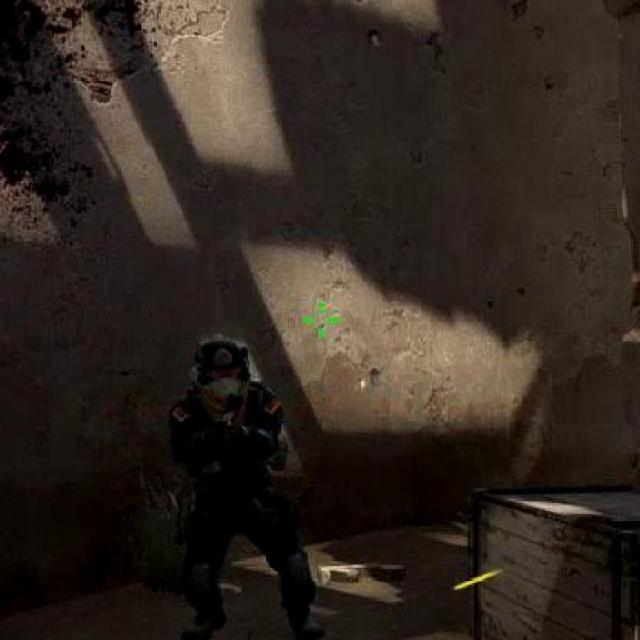CT: (163, 340, 311, 622)
CT_HEAD: (200, 340, 251, 388)
